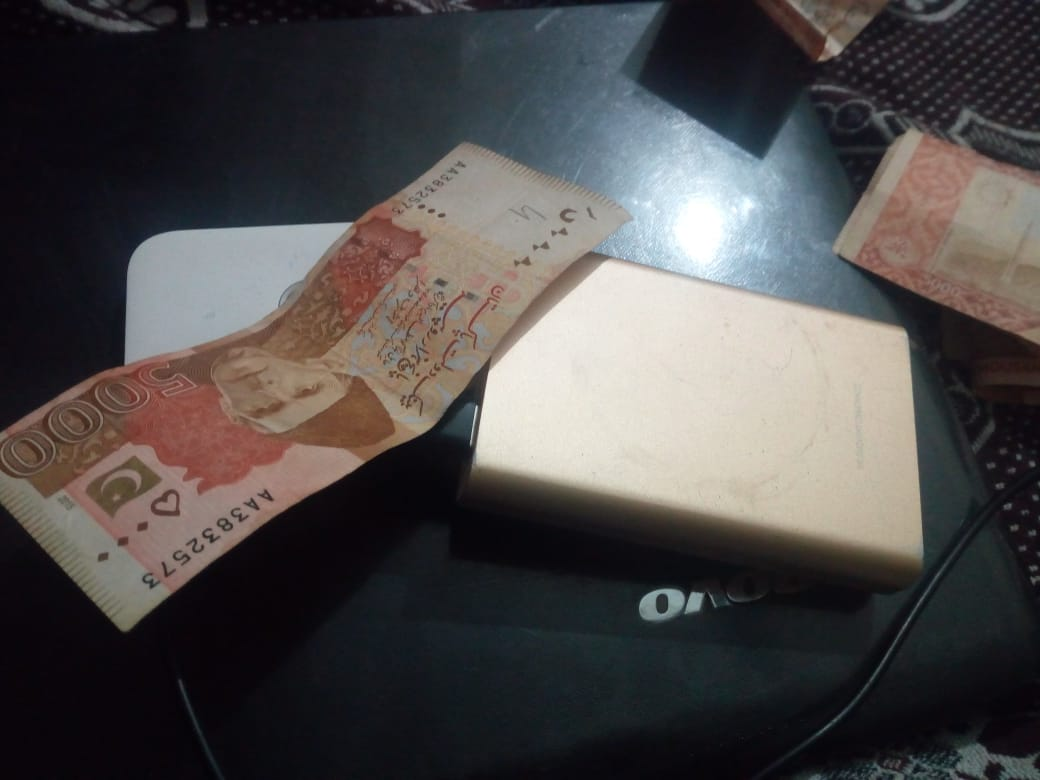5000 rupee: (4, 113, 656, 656)
